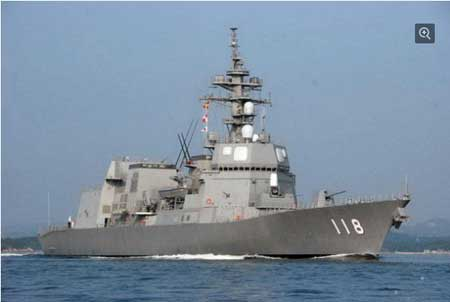warship: (35, 25, 413, 259)
